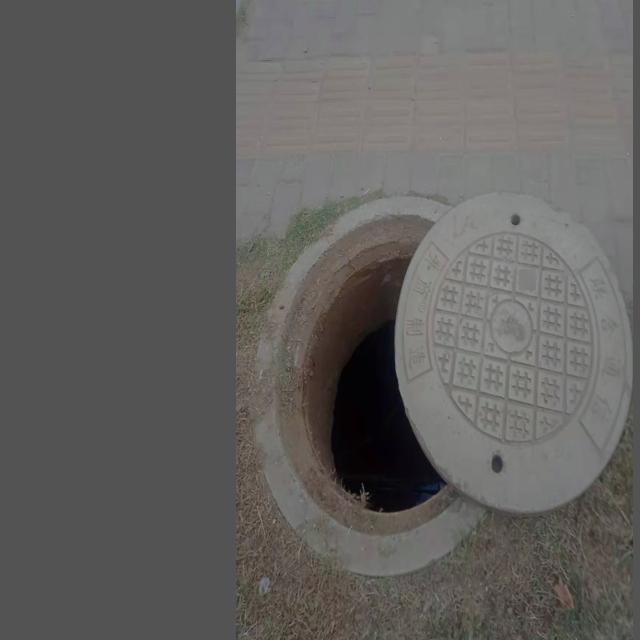uncovered: (253, 192, 631, 575)
